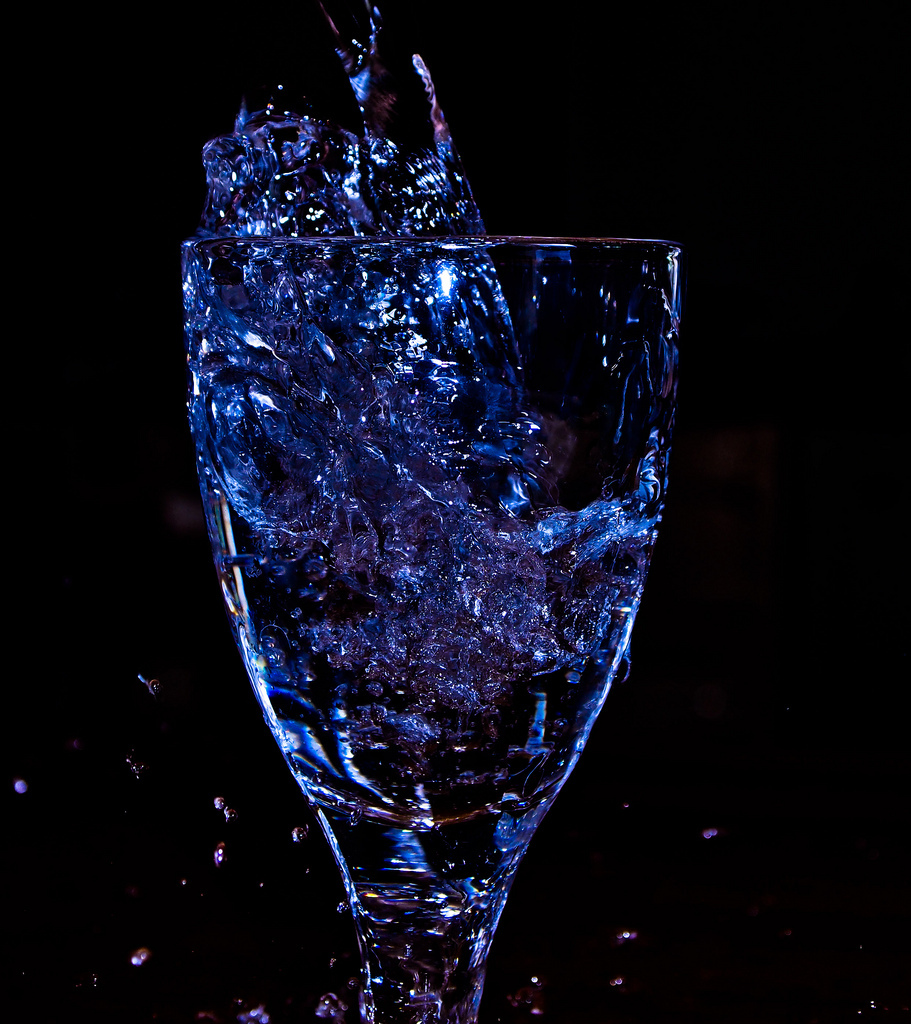glass of water: (176, 206, 689, 1024)
